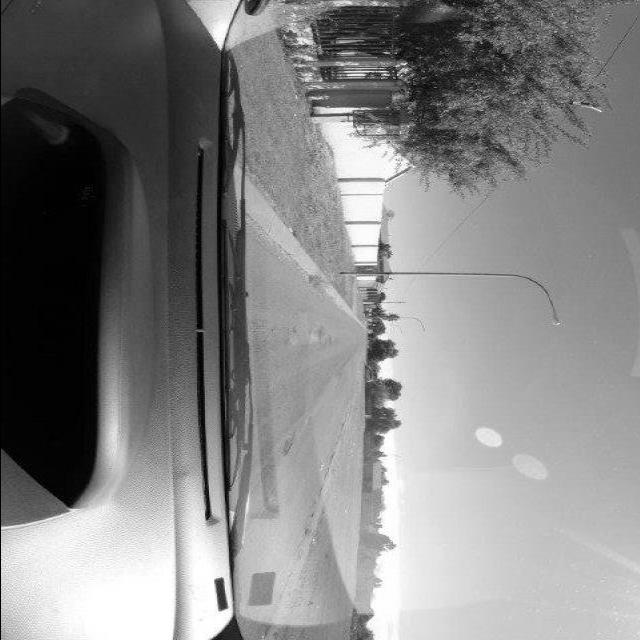jalan retak: (262, 322, 301, 347)
lubang: (278, 426, 300, 459), (306, 325, 330, 344)
